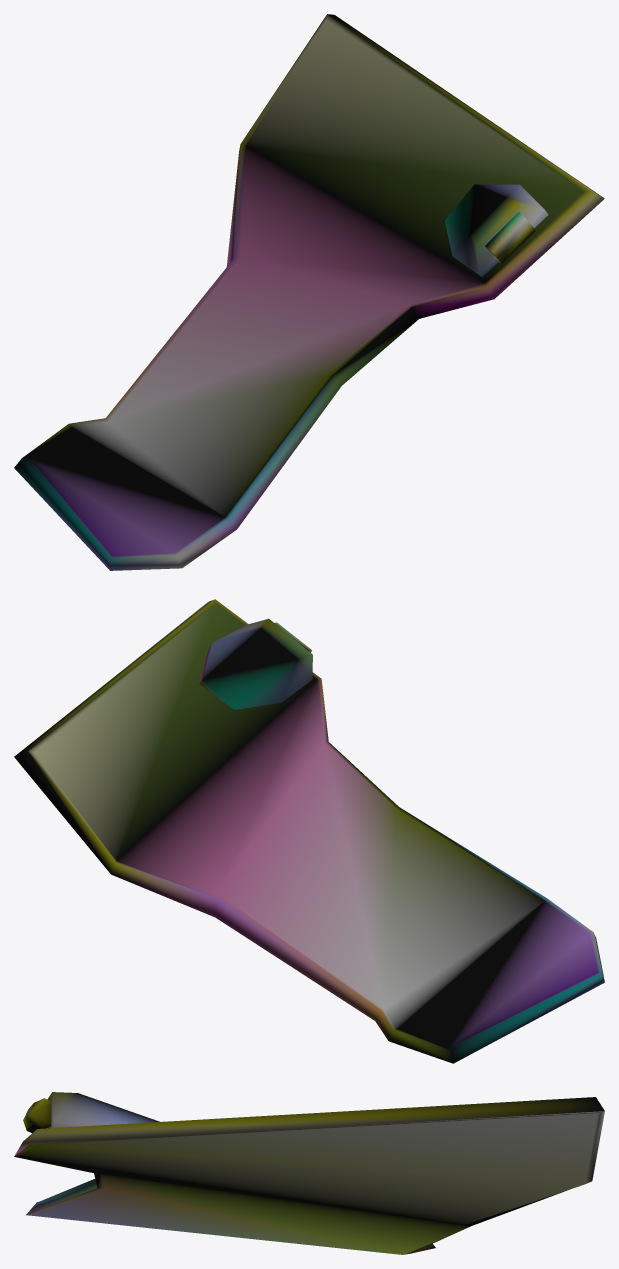
The model's file is ASE_Shrike_Gib_Flap_R.gltf.
3 renders of one model, top to bottom at view 1: azimuth 30°, elevation 25°; view 2: azimuth 150°, elevation 25°; view 3: azimuth 270°, elevation 25°, orthographic. The views are drawn at different scales.
Parts seen in each view (by area): view 1: ASE_Shrike_Gib_Flap_R; view 2: ASE_Shrike_Gib_Flap_R; view 3: ASE_Shrike_Gib_Flap_R.
Part boxes in pixels (x1,y1,x2,y2): ASE_Shrike_Gib_Flap_R: [14, 14, 604, 570]; ASE_Shrike_Gib_Flap_R: [14, 599, 604, 1063]; ASE_Shrike_Gib_Flap_R: [14, 1092, 604, 1254].
Bounding box in the file's own units: 0.8761 × 0.5461 × 0.81.
